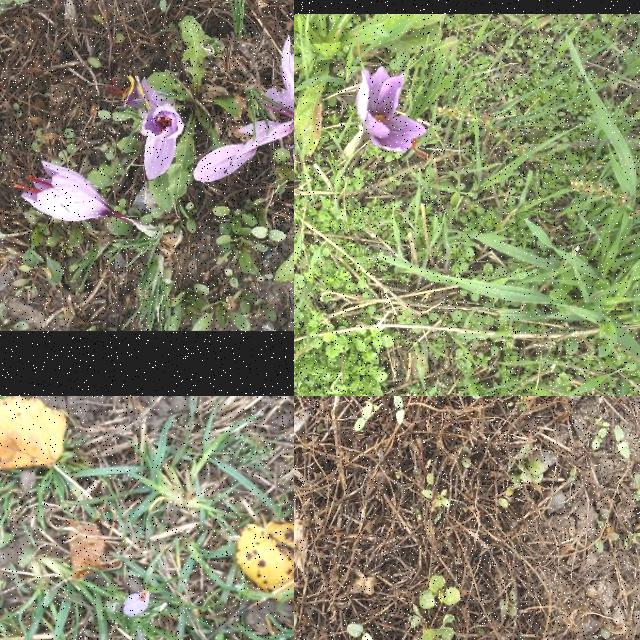flower: (356, 66, 428, 158), (12, 162, 114, 222), (140, 105, 186, 182), (124, 590, 150, 618)
